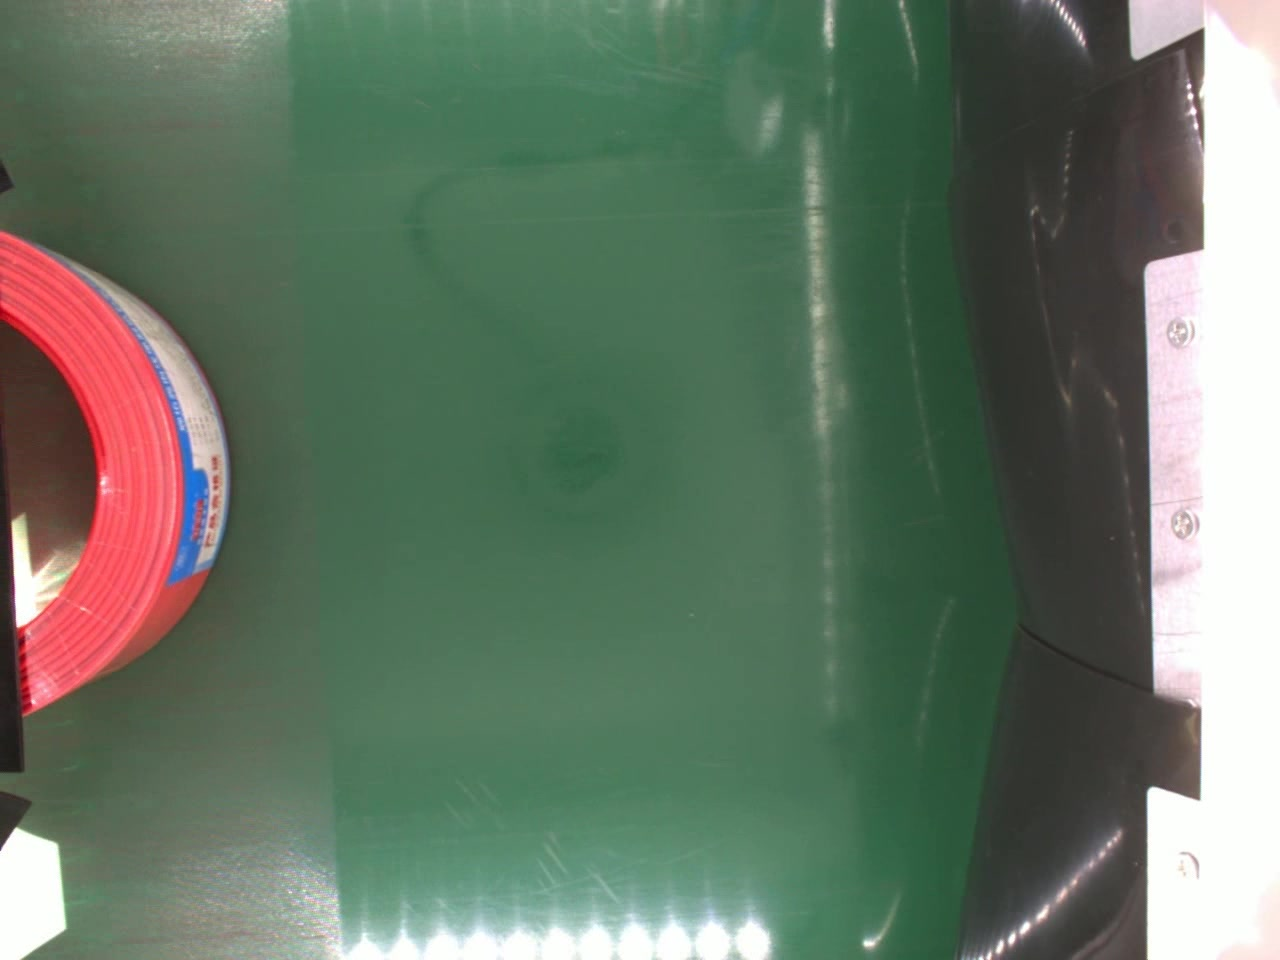red: (0, 233, 233, 714)
